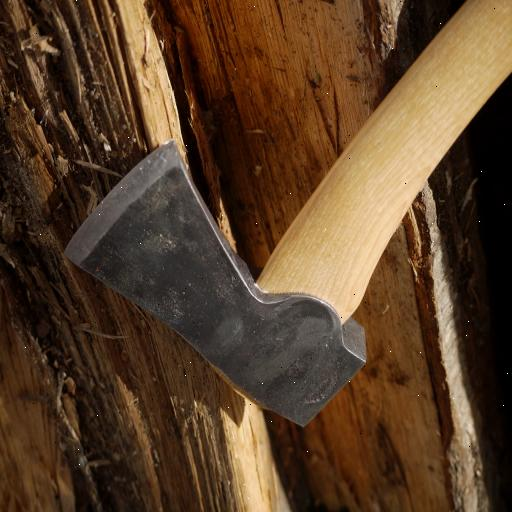Axe: (63, 1, 512, 431)
